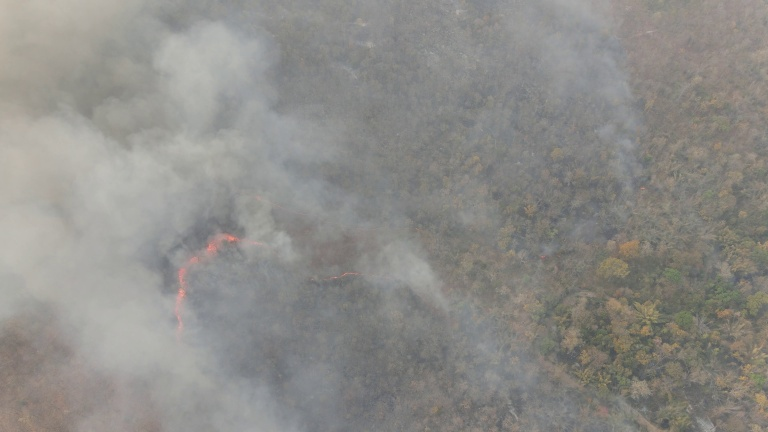fire: (170, 230, 279, 349), (316, 268, 366, 285)
smoke: (9, 41, 292, 414), (374, 242, 464, 320)
